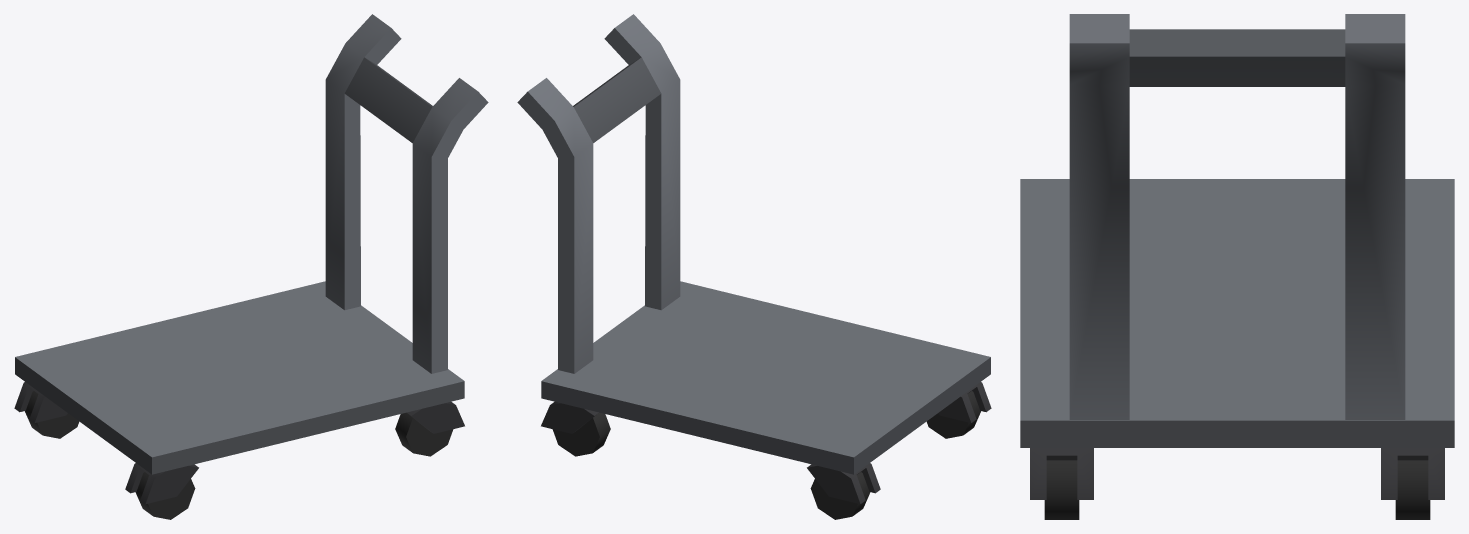
The model's file is PlatformCart.glb.
The picture shows the model from 3 angles, left to right: view 1: azimuth 30°, elevation 25°; view 2: azimuth 150°, elevation 25°; view 3: azimuth 270°, elevation 25°; orthographic projection. The views are drawn at different scales.
Parts seen in each view (by area): view 1: PlatformCart; view 2: PlatformCart; view 3: PlatformCart.
Boxes of the visible parts, left/top/right/bottom form: PlatformCart: left=14, top=14, right=488, bottom=519; PlatformCart: left=517, top=14, right=991, bottom=519; PlatformCart: left=1020, top=14, right=1454, bottom=519.
Bounding box in the file's own units: 0.9761 × 0.9065 × 0.652.
Materials: 1 (1 with a texture image).
